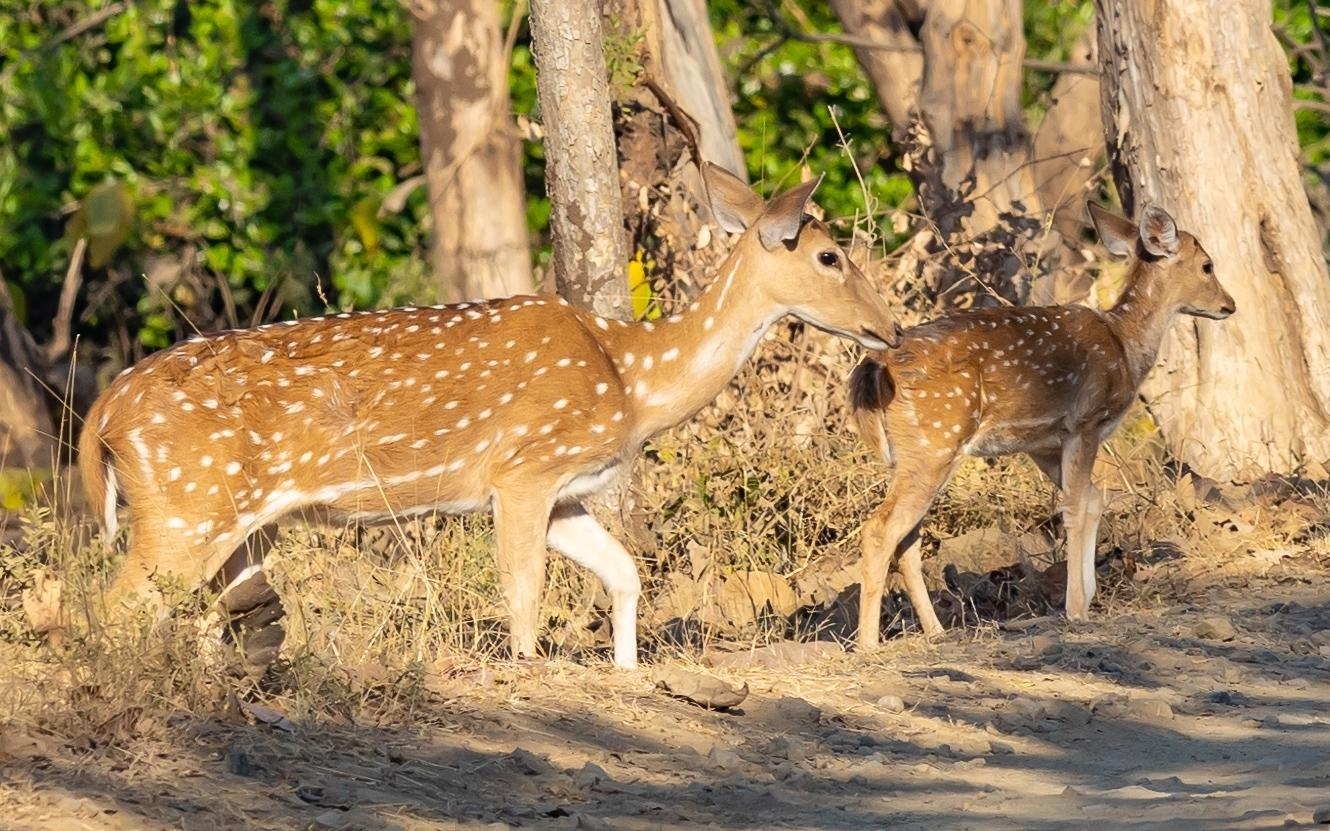Deer: (80, 164, 896, 666), (848, 203, 1235, 647)
